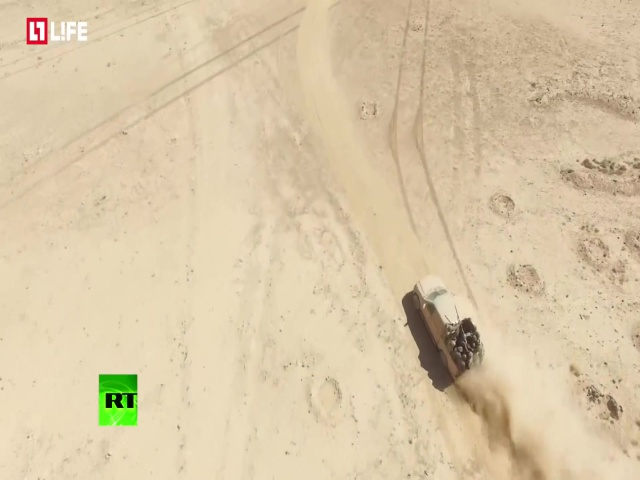vehicle: (414, 274, 487, 382)
